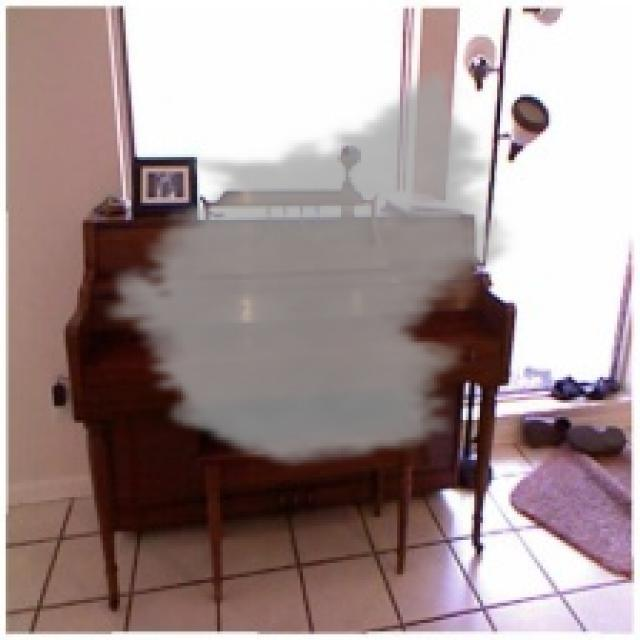Smoke: (97, 69, 523, 472)
